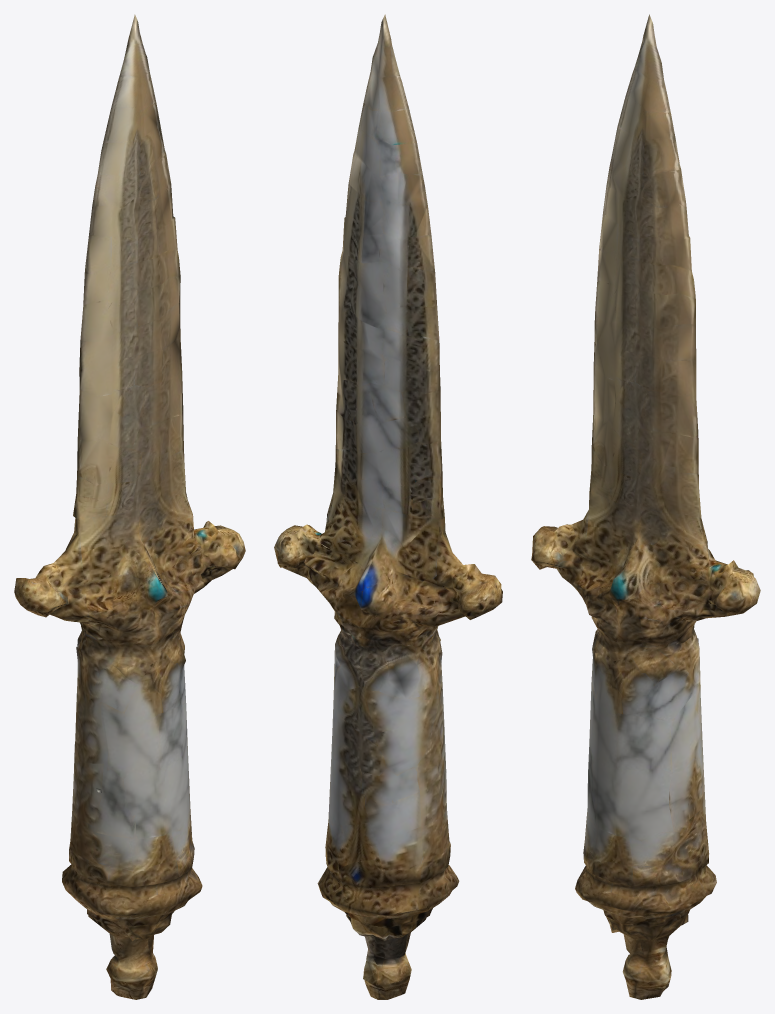
Rendered from 1181_dagger.glb.
3 renders of one model, left to right at view 1: azimuth 30°, elevation 25°; view 2: azimuth 150°, elevation 25°; view 3: azimuth 330°, elevation 25°, orthographic.
Visible parts, largest first — view 1: Model; view 2: Model; view 3: Model.
Boxes of the visible parts, bbox=[...] form: Model: bbox=[14, 14, 245, 999]; Model: bbox=[274, 14, 502, 999]; Model: bbox=[531, 14, 760, 999].
Bounding box in the file's own units: 0.2375 × 1 × 0.1216.
1 material, 1 textured.
